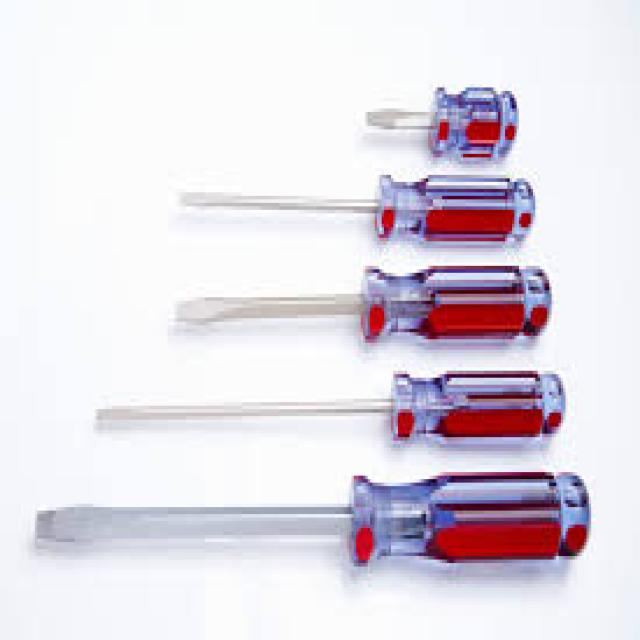Screwdriver: (36, 471, 590, 564), (95, 372, 569, 441), (175, 267, 551, 341), (181, 175, 534, 241), (366, 88, 517, 157)
